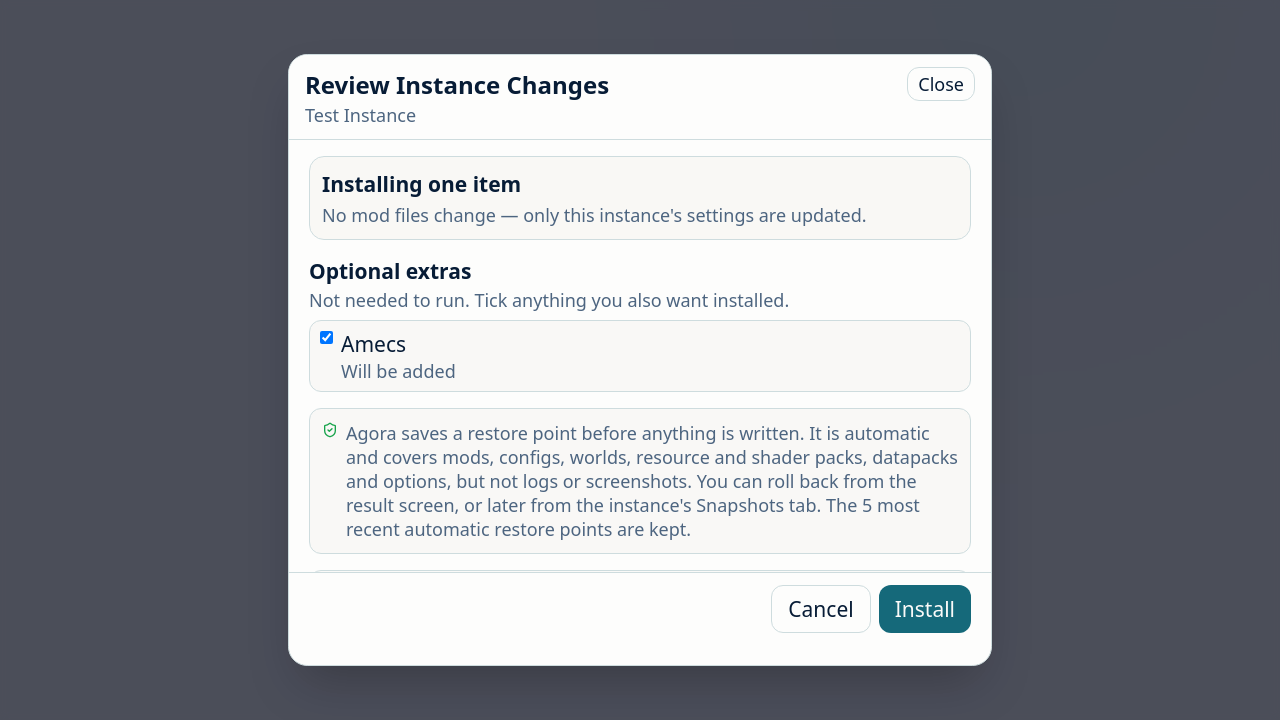
Test case: install review: optional choices survive a re-review › says Not included as soon as an extra is unticked, matching the box
Expected: the text "Will be added" is shown, [341,359,456,383]
Click the checkbox named "Include optional dependency Amecs".
click(326, 338)  # box [320,331,333,344]
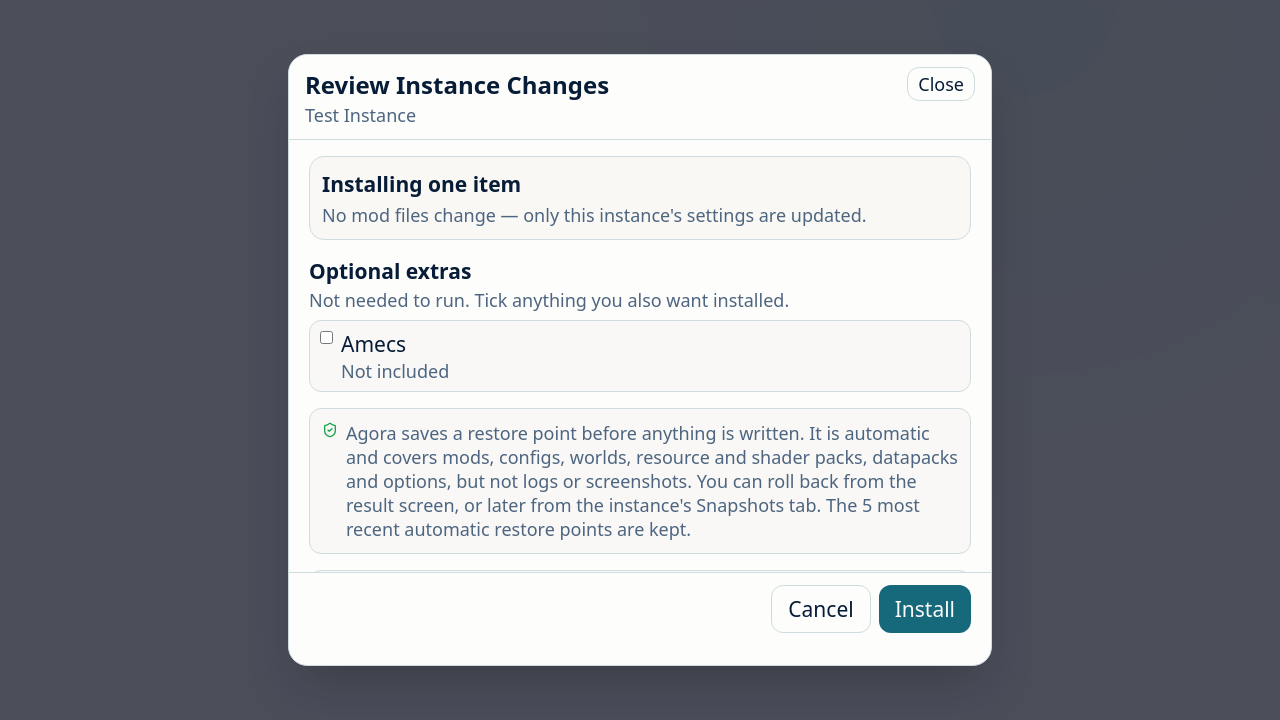
Result: the checkbox named "Include optional dependency Amecs" is not checked at [320,331,333,344]
Result: the text "Not included" is shown at [341,359,449,383]
Result: the text "Will be added" is gone
